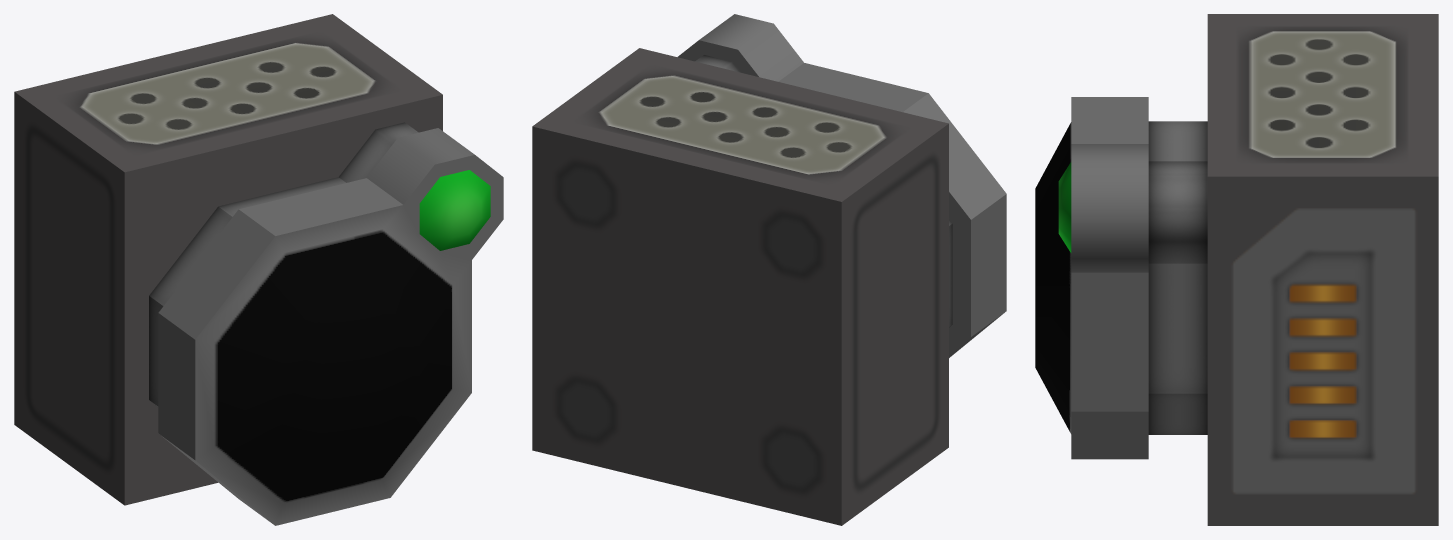
File: obj_interactive_sensor_on.fbx
3 renders of one model, left to right at view 1: azimuth 30°, elevation 25°; view 2: azimuth 150°, elevation 25°; view 3: azimuth 270°, elevation 25°, orthographic. The views are drawn at different scales.
Visible parts, largest first — view 1: obj_interactive_sensor_01_on; view 2: obj_interactive_sensor_01_on; view 3: obj_interactive_sensor_01_on.
Part boxes in pixels (bbox=[...]): obj_interactive_sensor_01_on: bbox=[14, 14, 503, 525]; obj_interactive_sensor_01_on: bbox=[532, 14, 1006, 525]; obj_interactive_sensor_01_on: bbox=[1035, 14, 1438, 525].
Bounding box in the file's own units: 1 × 1 × 1.05.
